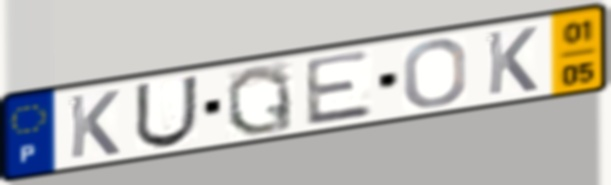E: (302, 47, 378, 129)
K: (483, 24, 540, 98), (66, 87, 122, 162)
O: (400, 37, 469, 110)
Q: (223, 62, 297, 138)
U: (131, 73, 201, 151)
